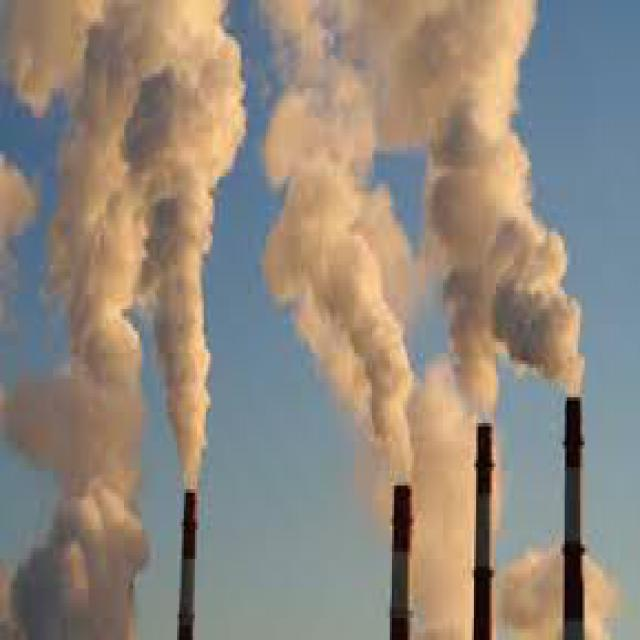Smoke: (27, 0, 640, 468), (0, 293, 187, 640)
